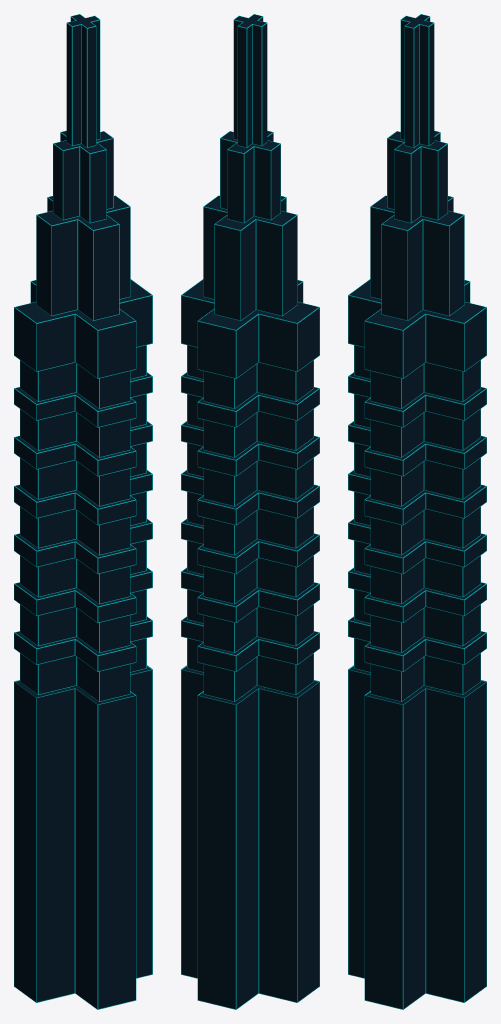
3 renders of one model, left to right at view 1: azimuth 30°, elevation 25°; view 2: azimuth 150°, elevation 25°; view 3: azimuth 330°, elevation 25°, orthographic.
Parts seen in each view (by area): view 1: BuildingE01; view 2: BuildingE01; view 3: BuildingE01.
Part boxes in pixels (box(x1,y1,x2,y2)): BuildingE01: box(14, 14, 152, 1009); BuildingE01: box(181, 14, 319, 1009); BuildingE01: box(348, 14, 486, 1009).
Size of the model in its own units: 38.69 by 305 by 38.69.
Materials: 1 (1 with a texture image).
